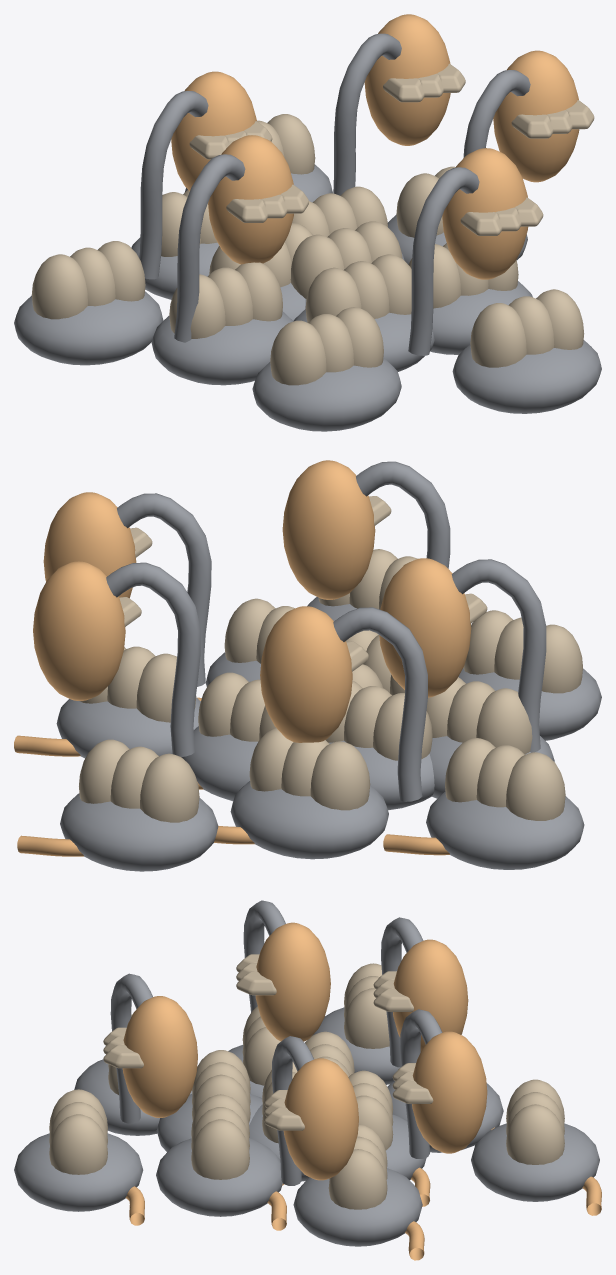
The model's file is bio_acid_mat_13_near.glb.
3 views of the same model, one above another, from view 1: azimuth 30°, elevation 25°; view 2: azimuth 150°, elevation 25°; view 3: azimuth 270°, elevation 25° (orthographic). The views are drawn at different scales.
Parts seen in each view (by area): view 1: Microbial cushion.010, Microbial cushion.007, Microbial cushion.009, Pendant spore capsule.003, Pendant spore capsule.002, Pendant spore capsule.004, Pendant spore capsule, Reaction vesicle.027, Reaction vesicle.030, Reaction vesicle.021, Microbial cushion.004, Reaction vesicle.012 (+25 smaller); view 2: Pendant spore capsule.003, Pendant spore capsule.002, Pendant spore capsule.001, Microbial cushion.011, Microbial cushion.009, Microbial cushion.006, Pendant spore capsule.004, Reaction vesicle.033, Reaction vesicle.027, Reaction vesicle.018, Arched fruit stem.003, Arched fruit stem.001 (+22 smaller); view 3: Pendant spore capsule, Pendant spore capsule.002, Pendant spore capsule.003, Pendant spore capsule.004, Microbial cushion.011, Microbial cushion.010, Microbial cushion.005, Microbial cushion.008, Pendant spore capsule.001, Reaction vesicle.015, Reaction vesicle.030, Reaction vesicle.033 (+27 smaller).
Boxes of the visible parts, x1,y1,x2,y2 form: Microbial cushion.010: (452, 340, 601, 413); Microbial cushion.007: (252, 357, 401, 431); Microbial cushion.009: (14, 291, 163, 365); Pendant spore capsule.003: (364, 14, 450, 145); Pendant spore capsule.002: (442, 148, 528, 279); Pendant spore capsule.004: (208, 135, 293, 264); Pendant spore capsule: (493, 50, 579, 182); Reaction vesicle.027: (31, 241, 145, 319); Reaction vesicle.030: (470, 289, 584, 367); Reaction vesicle.021: (270, 307, 383, 385); Microbial cushion.004: (151, 312, 293, 385); Reaction vesicle.012: (169, 262, 282, 338); Pendant spore capsule.003: (33, 561, 125, 700); Pendant spore capsule.002: (282, 460, 375, 599); Pendant spore capsule.001: (260, 606, 352, 742); Microbial cushion.011: (60, 793, 218, 871); Microbial cushion.009: (426, 791, 584, 869); Microbial cushion.006: (230, 781, 388, 859); Pendant spore capsule.004: (379, 558, 471, 697); Reaction vesicle.033: (79, 739, 199, 822); Reaction vesicle.027: (445, 738, 565, 820); Reaction vesicle.018: (249, 728, 370, 810); Arched fruit stem.003: (106, 562, 200, 756); Arched fruit stem.001: (333, 607, 427, 801); Pendant spore capsule: (283, 1058, 358, 1180); Pendant spore capsule.002: (122, 996, 197, 1117); Pendant spore capsule.003: (412, 1031, 487, 1153); Pendant spore capsule.004: (255, 922, 330, 1041); Microbial cushion.011: (471, 1123, 599, 1201); Microbial cushion.010: (14, 1133, 143, 1211); Microbial cushion.005: (156, 1138, 282, 1216); Microbial cushion.008: (293, 1168, 422, 1246); Pendant spore capsule.001: (393, 939, 468, 1051); Reaction vesicle.015: (191, 1094, 249, 1179); Reaction vesicle.030: (49, 1089, 107, 1174); Reaction vesicle.033: (506, 1079, 564, 1164).
Size of the model in its own units: 1.9 by 0.7645 by 2.
